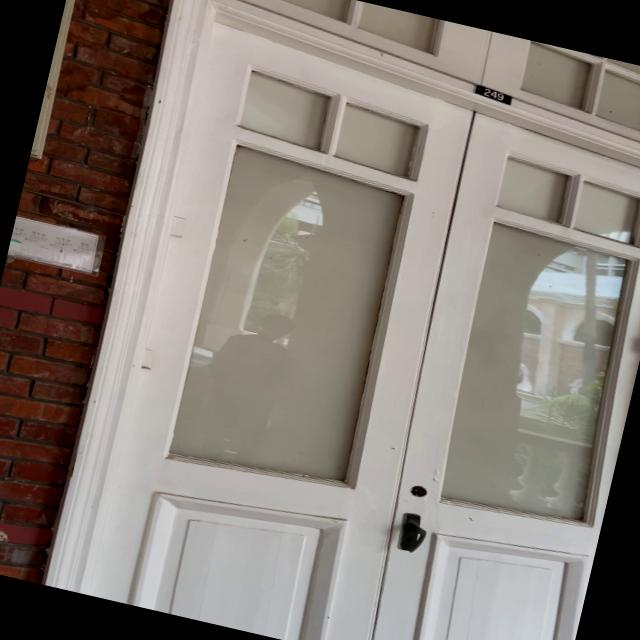room249: (466, 80, 522, 111)
